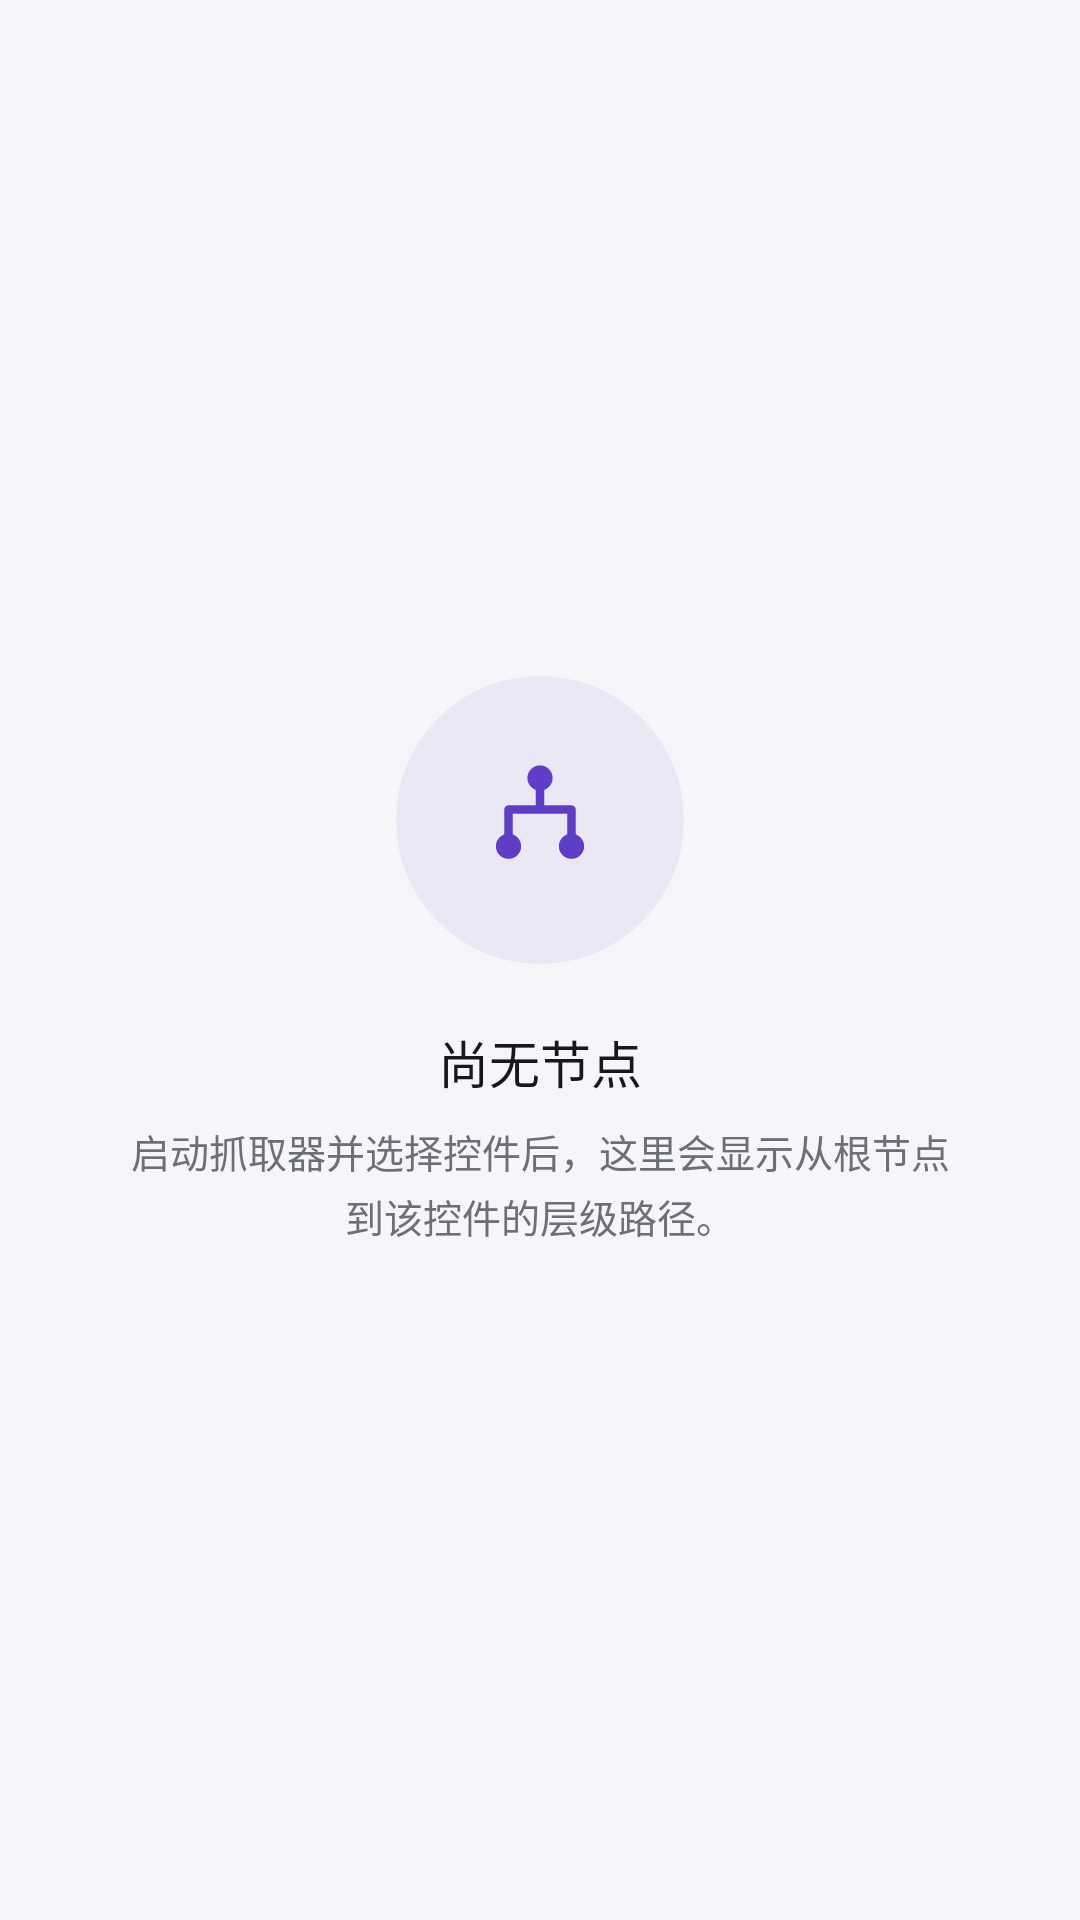

Icons on this 1080 x 1920 Android screen, each with its box as (x1, y1, x2, y2):
tree: (496, 765, 584, 859)
